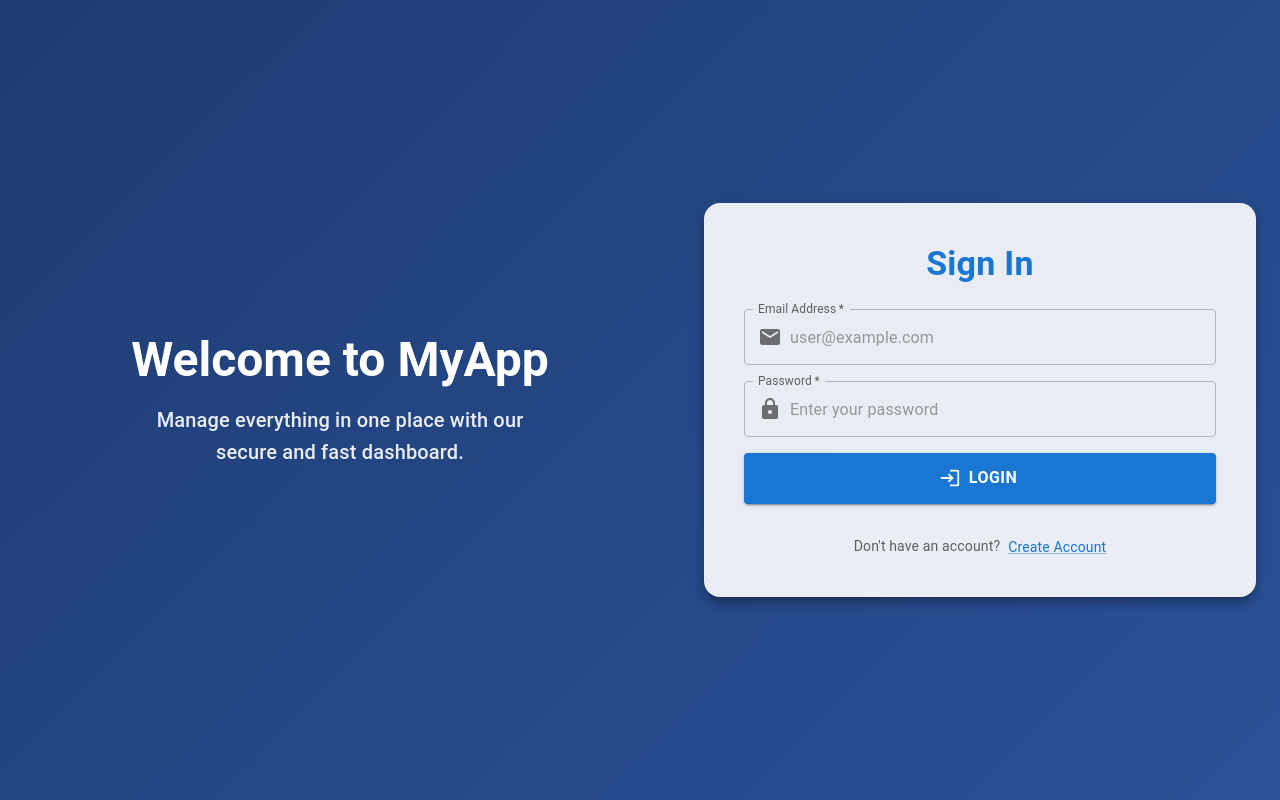
Test: LoginForm › switches to registration mode
The image size is (1280, 800).
Click the button "Create Account". click: (1057, 547)
box: 1008,537 -> 1106,557
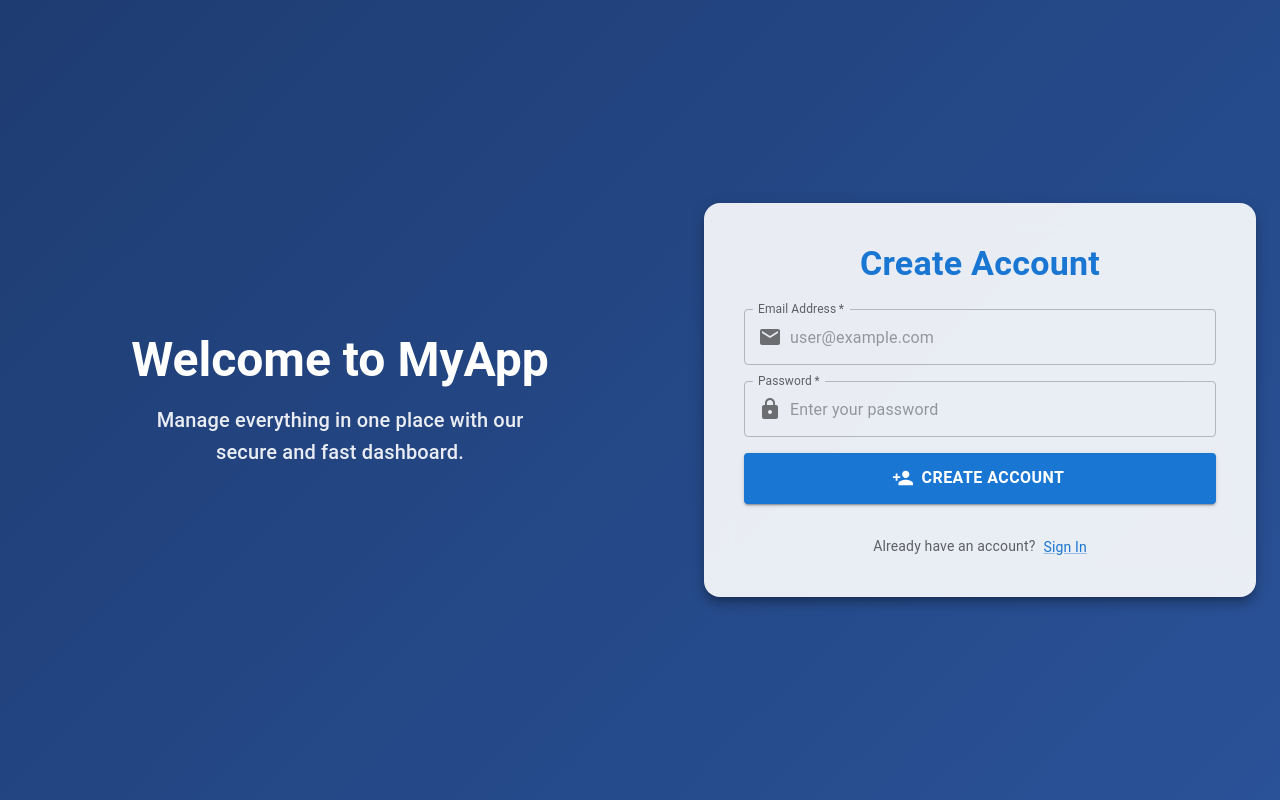
Check: the heading "Create Account" is shown, box 860,243 -> 1100,283
Check: the button "Create Account" is shown, box 744,453 -> 1216,504
